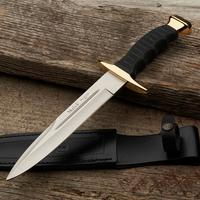knife: (5, 13, 183, 182)
